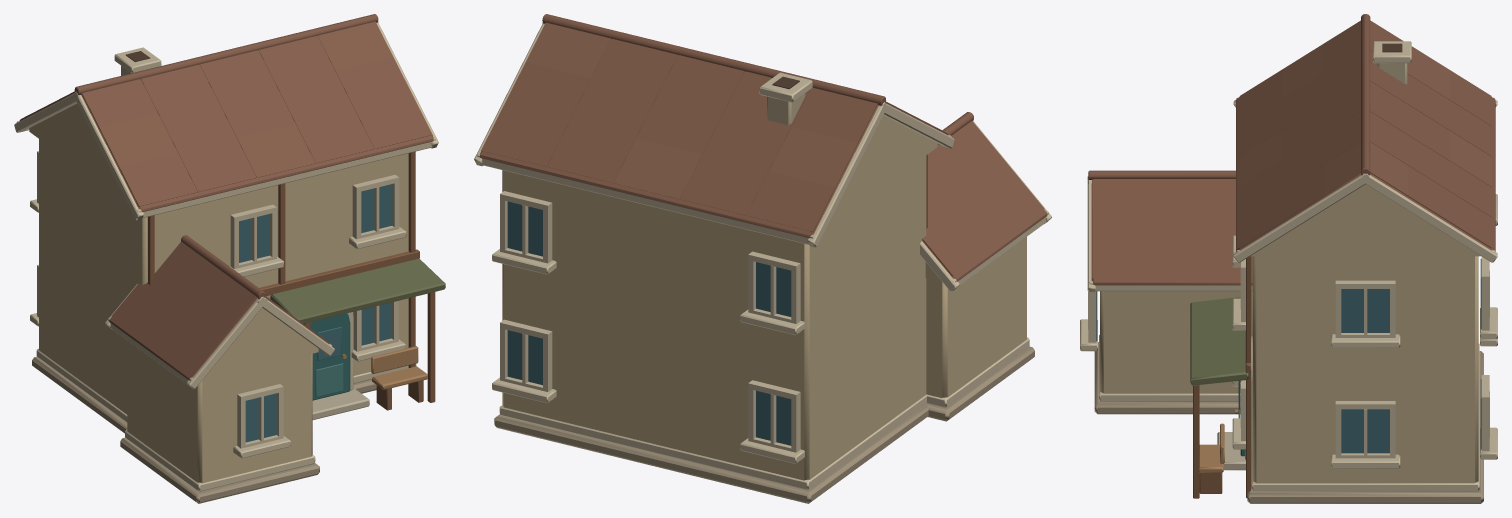
Rendered from inn_level_2.glb.
3 views of the same model, side by side, from view 1: azimuth 30°, elevation 25°; view 2: azimuth 150°, elevation 25°; view 3: azimuth 270°, elevation 25° (orthographic). The views are drawn at different scales.
Parts seen in each view (by area): view 1: inn_level_2_runtime; view 2: inn_level_2_runtime; view 3: inn_level_2_runtime.
Part boxes in pixels (bbox=[...]): inn_level_2_runtime: bbox=[14, 14, 445, 503]; inn_level_2_runtime: bbox=[474, 14, 1051, 503]; inn_level_2_runtime: bbox=[1080, 14, 1497, 503].
Bounding box in the file's own units: 5.88 × 5.75 × 6.29.
